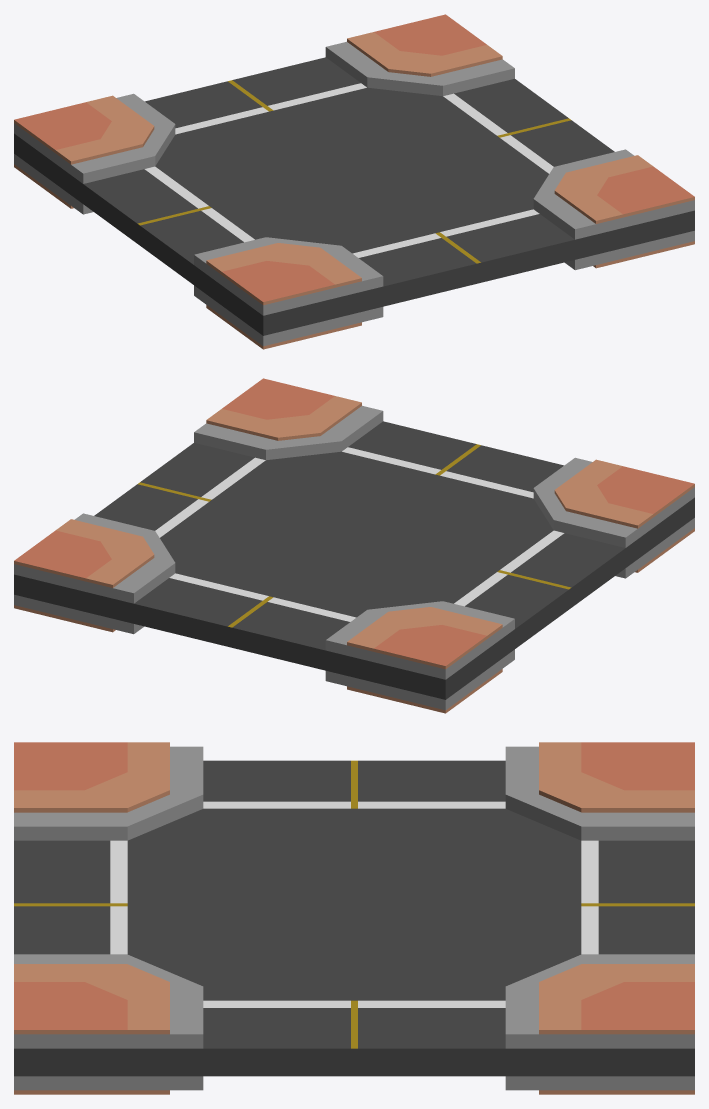
The model's file is Road 7.fbx.
3 renders of one model, top to bottom at view 1: azimuth 30°, elevation 25°; view 2: azimuth 150°, elevation 25°; view 3: azimuth 270°, elevation 25°, orthographic. The views are drawn at different scales.
Parts seen in each view (by area): view 1: Road 7; view 2: Road 7; view 3: Road 7.
Boxes of the visible parts, left/top/right/bottom form: Road 7: left=14, top=14, right=694, bottom=349; Road 7: left=14, top=378, right=694, bottom=713; Road 7: left=14, top=742, right=694, bottom=1094.
Bounding box in the file's own units: 12.36 × 12.36 × 1.3.
